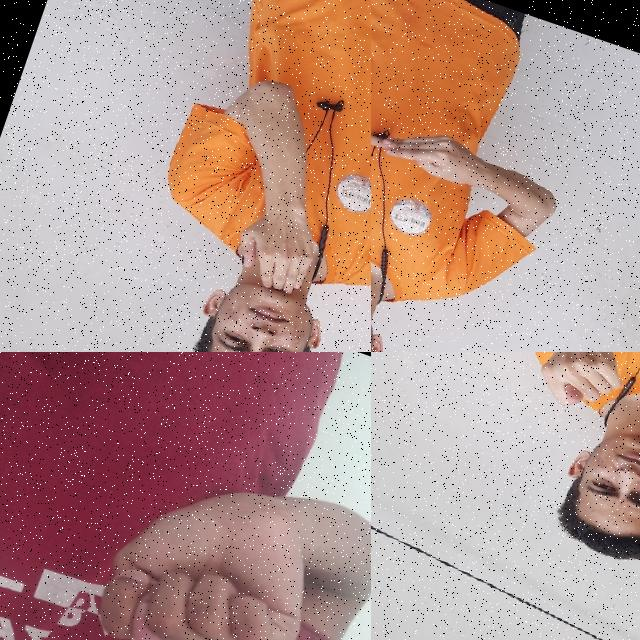Chin Flick: (161, 183, 371, 352)
Dulya: (73, 439, 348, 640), (525, 352, 640, 429)
Five Fathers: (371, 69, 502, 217)
